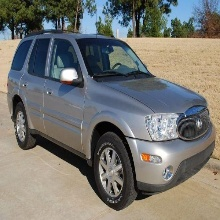no damage: (7, 29, 217, 210)
